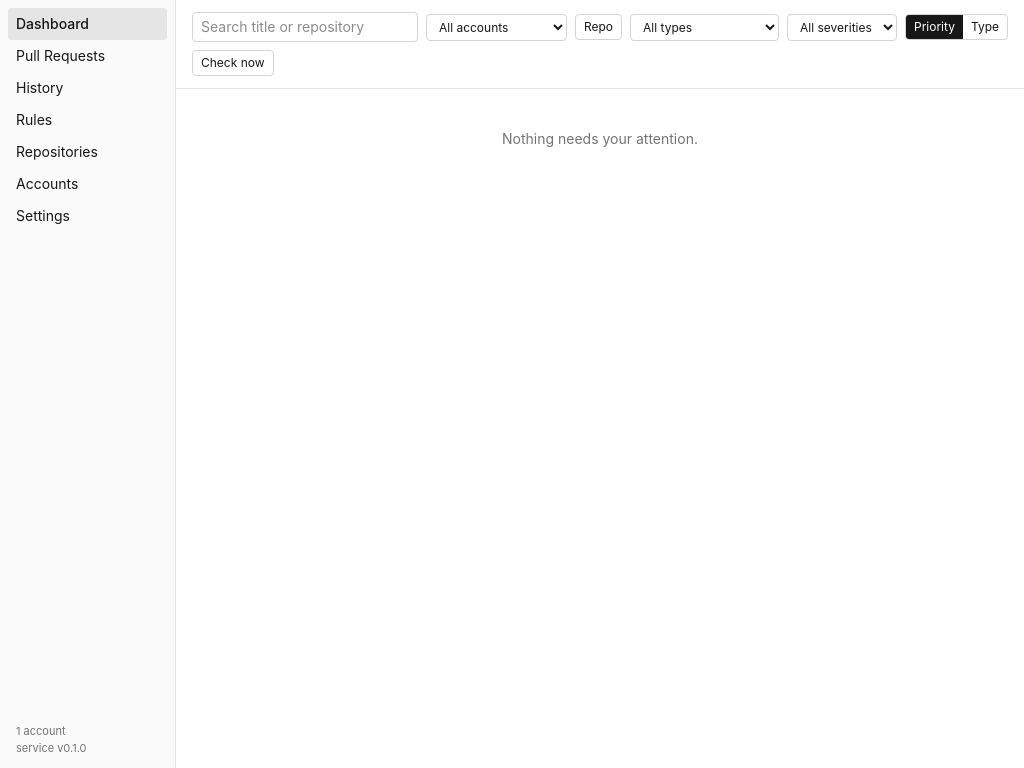
App navigation › renders the Repositories view when its nav item is clicked
This screenshot has width=1024, height=768.
Click the button "Repositories" at (88, 152), box [8, 136, 167, 168]
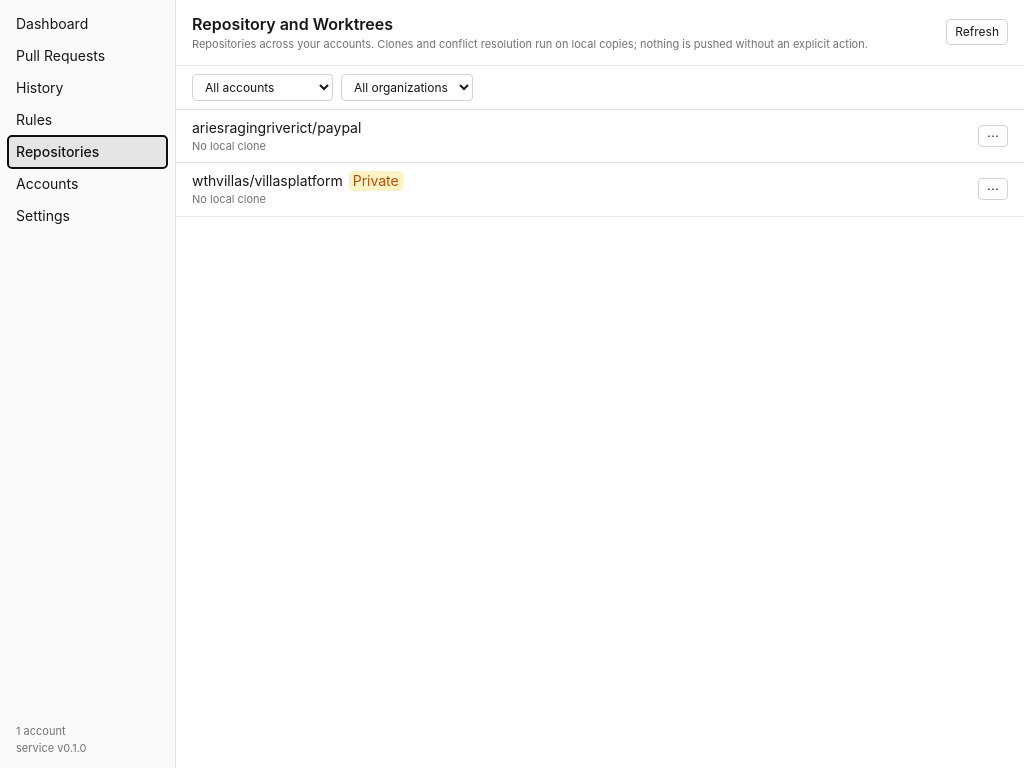
Expected: the text "ariesragingriverict/paypal" is shown, [192, 118, 361, 138]
Expected: the text "wthvillas/villasplatform" is shown, [192, 171, 343, 191]
Expected: the heading "Repository and Worktrees" is shown, [192, 14, 393, 34]
